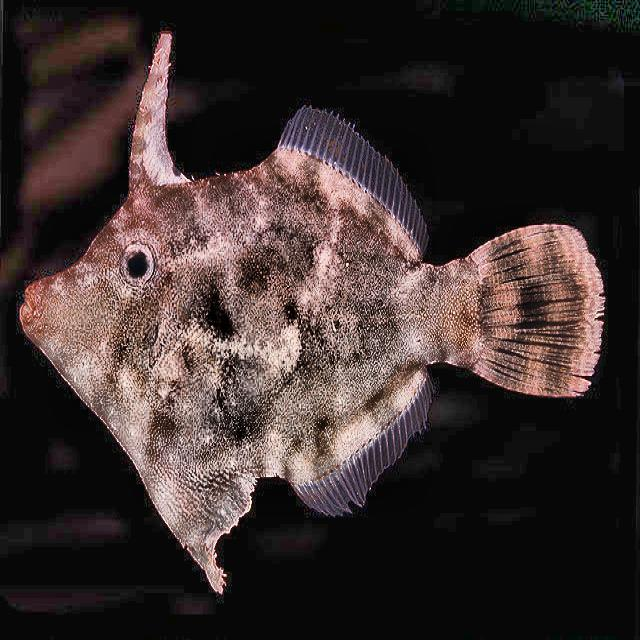fish: (19, 31, 607, 594)
